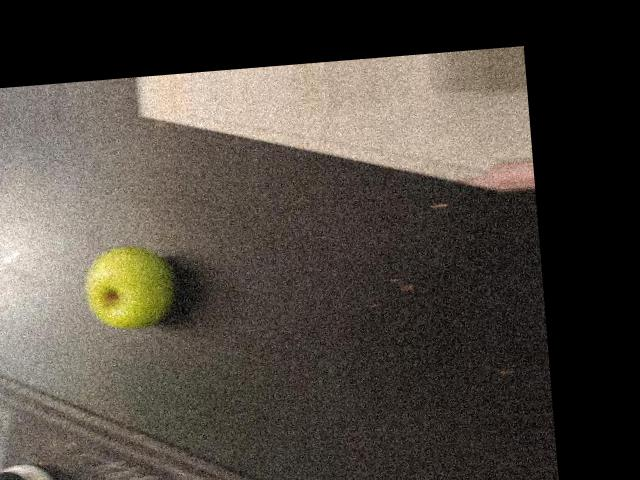apple: (53, 281, 170, 413)
